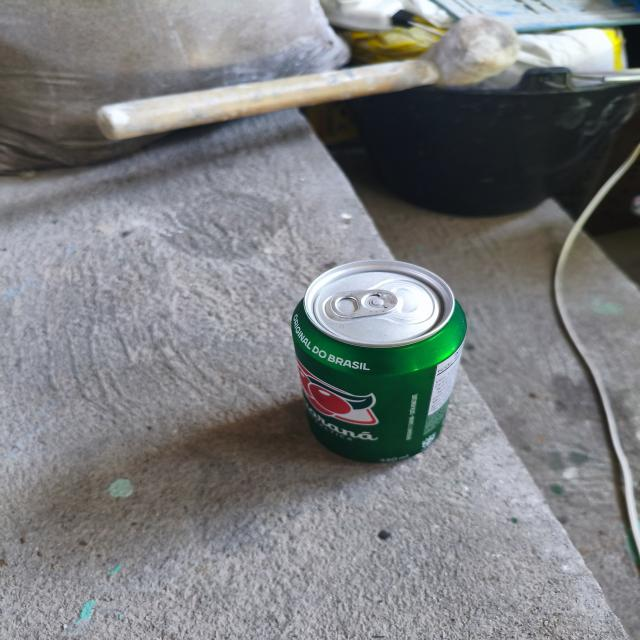Guarana: (268, 253, 500, 474)
